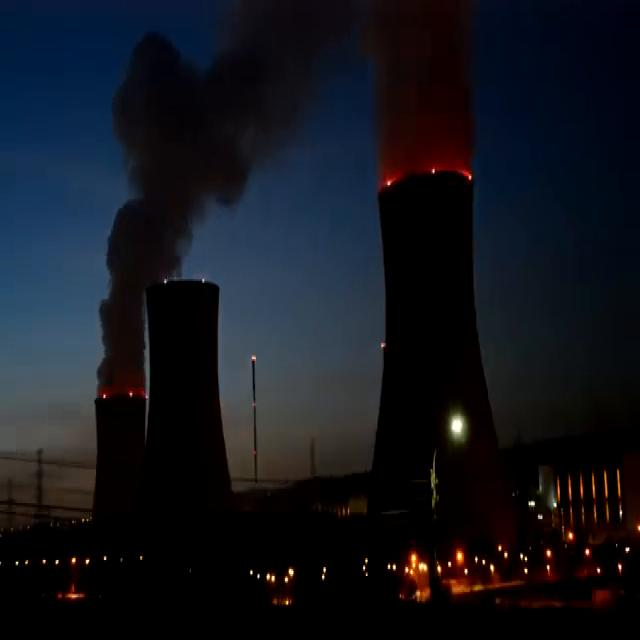smoke: (96, 30, 305, 402), (364, 0, 477, 194)
